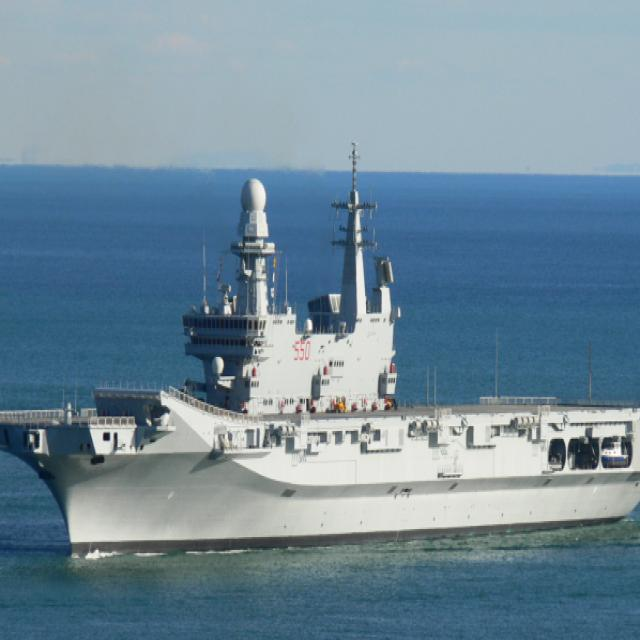Portanaves: (1, 141, 640, 564)
